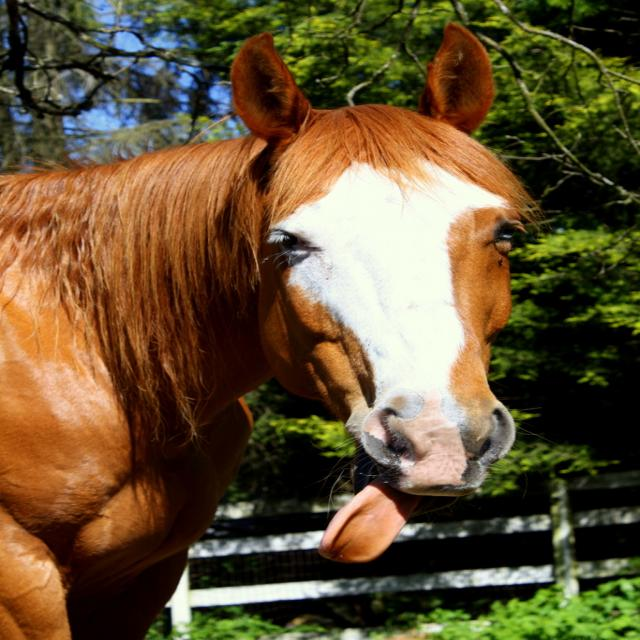Horse: (0, 21, 549, 639)
